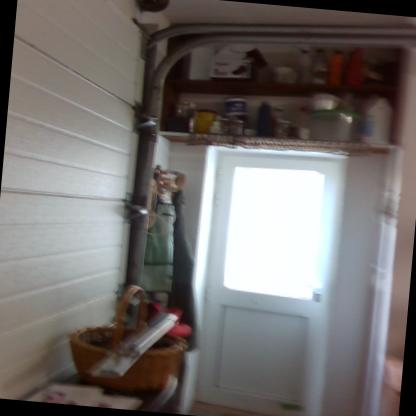closed: (176, 137, 361, 415)
